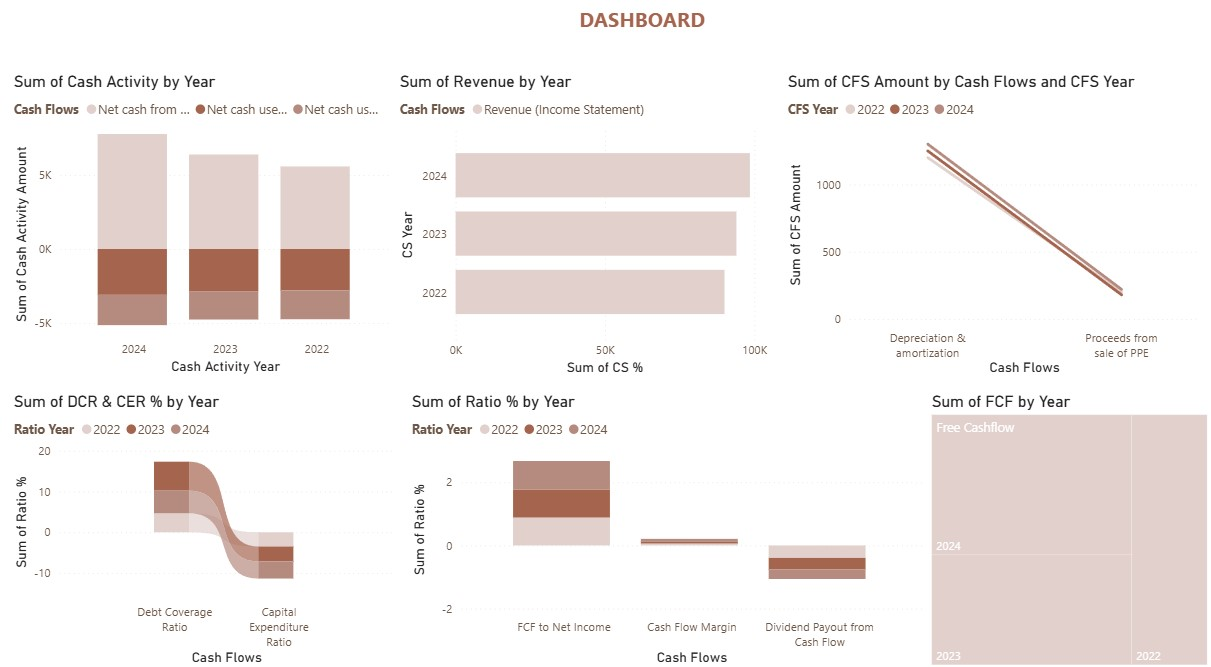

This screenshot's page, from the dashboard's own definition file:
{"tool":"powerbi","page":{"name":"Dashboard","canvas":[1280,720],"ordinal":0},"visuals":[{"type":"columnChart","title":"Sum of Cash Activity by Year","fields":{"Y":["Sum(Cash Activity.Cash Activity Amount)"],"Category":["Cash Activity.Cash Activity Year"],"Series":["Cash Activity.Cash Flows"]},"box":[10.3,88.7,407.4,323.9],"z":0},{"type":"clusteredBarChart","title":"Sum of Revenue by Year","fields":{"Category":["Common Size CFS.CS Year"],"Y":["Sum(Common Size CFS.CS %)"],"Series":["Common Size CFS.Cash Flows"]},"box":[417.7,88.7,398.4,325.1],"z":1000},{"type":"ribbonChart","title":"Sum of DCR & CER % by Year","fields":{"Category":["Ratios.Cash Flows"],"Y":["Sum(Ratios.Ratio %)"],"Series":["Ratios.Ratio Year"]},"box":[10.3,426.7,411.2,293],"z":2000},{"type":"treemap","title":"Sum of FCF by Year","fields":{"Group":["Ratios.Cash Flows"],"Values":["Sum(Ratios.Ratio %)"],"Details":["Ratios.Ratio Year"]},"box":[979.3,426.7,300.7,293],"z":3000},{"type":"lineChart","fields":{"Category":["CFS.Cash Flows"],"Series":["CFS.CFS Year"],"Y":["Sum(CFS.CFS Amount)"]},"box":[827.6,88.7,452.4,325.1],"z":5000},{"type":"columnChart","title":"Sum of Ratio % by Year","fields":{"Category":["Ratios.Cash Flows"],"Y":["Sum(Ratios.Ratio %)"],"Series":["Ratios.Ratio Year"]},"box":[430.5,426.7,548.8,293],"z":6000},{"type":"textbox","box":[499.9,12.9,357.3,64.3],"z":7000}]}

Visuals, with their boxes in screenshot pixels (x1, y1, x2, y2), scaled from the page's 1280x720 canvas onto the 1211x667 screenshot:
"Sum of Cash Activity by Year" columnChart: <bbox>10, 82, 395, 382</bbox>
"Sum of Revenue by Year" clusteredBarChart: <bbox>395, 82, 772, 383</bbox>
"Sum of DCR & CER % by Year" ribbonChart: <bbox>10, 395, 399, 666</bbox>
"Sum of FCF by Year" treemap: <bbox>927, 395, 1210, 666</bbox>
lineChart - CFS.Cash Flows x CFS.CFS Year: <bbox>783, 82, 1210, 383</bbox>
"Sum of Ratio % by Year" columnChart: <bbox>407, 395, 927, 666</bbox>
textbox: <bbox>473, 12, 811, 72</bbox>
